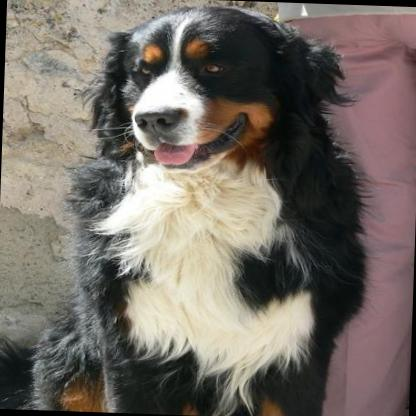Bernese_mountain_dog: (23, 3, 373, 416)
